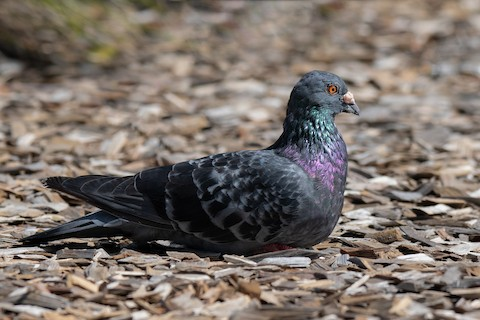pigeon: (16, 68, 365, 261)
